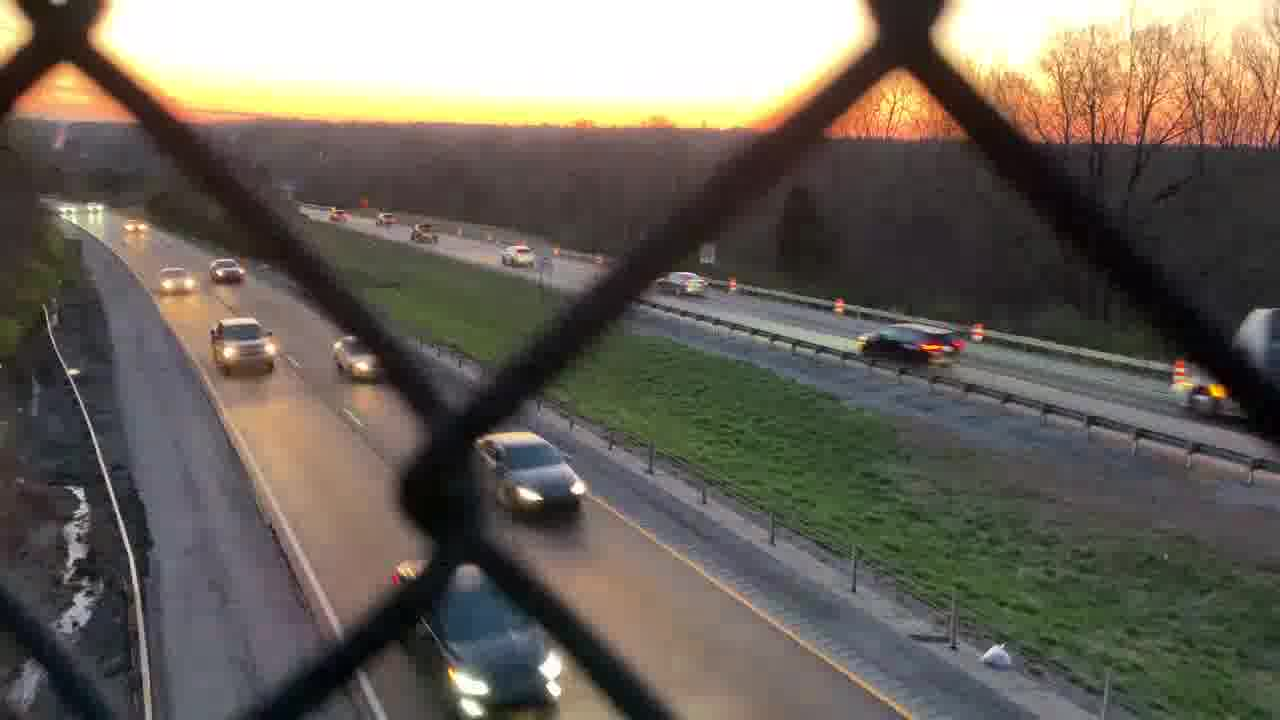largeCar: (857, 317, 959, 372)
lightTruck: (208, 316, 279, 377)
smallCar: (387, 557, 563, 716), (469, 429, 591, 521)
